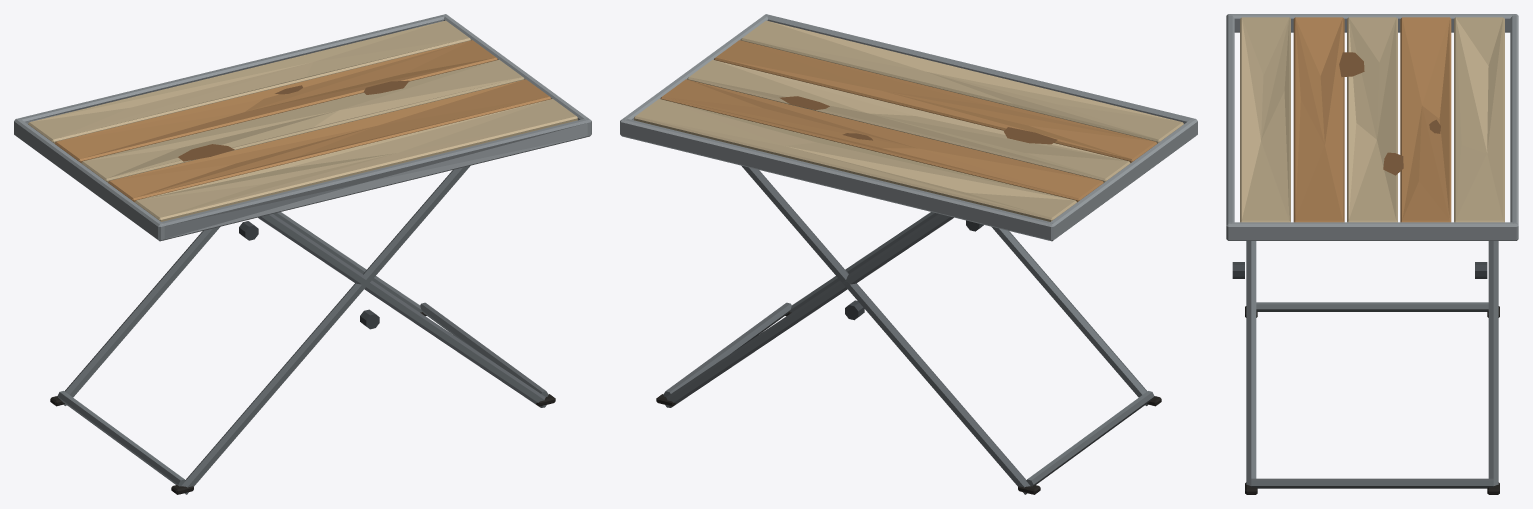
Rendered from table_wood_skladnoy_idle.glb.
3 views of the same model, side by side, from view 1: azimuth 30°, elevation 25°; view 2: azimuth 150°, elevation 25°; view 3: azimuth 270°, elevation 25° (orthographic).
Parts seen in each view (by area): view 1: table_wood_skladnoy_idle; view 2: table_wood_skladnoy_idle; view 3: table_wood_skladnoy_idle.
Part boxes in pixels (<box>): table_wood_skladnoy_idle: <box>14,14,591,494</box>; table_wood_skladnoy_idle: <box>620,14,1197,494</box>; table_wood_skladnoy_idle: <box>1226,14,1518,494</box>.
Bounding box in the file's own units: 1.2 × 0.7635 × 0.7.
1 material, 1 textured.
